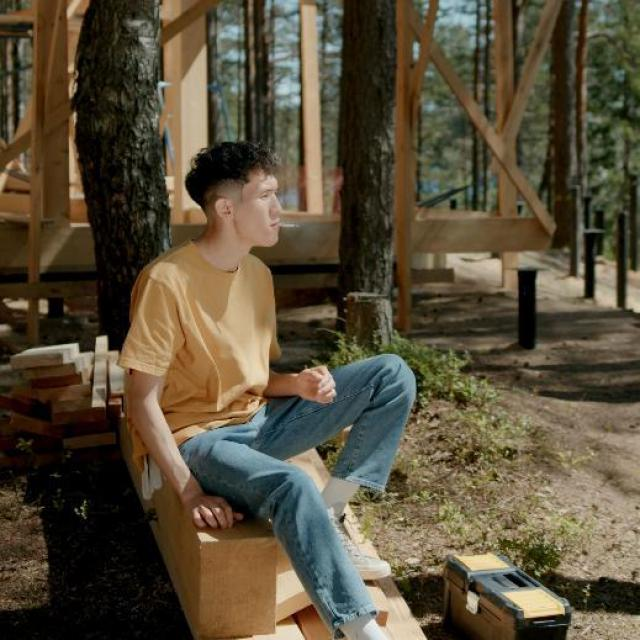smoke: (260, 211, 304, 245)
